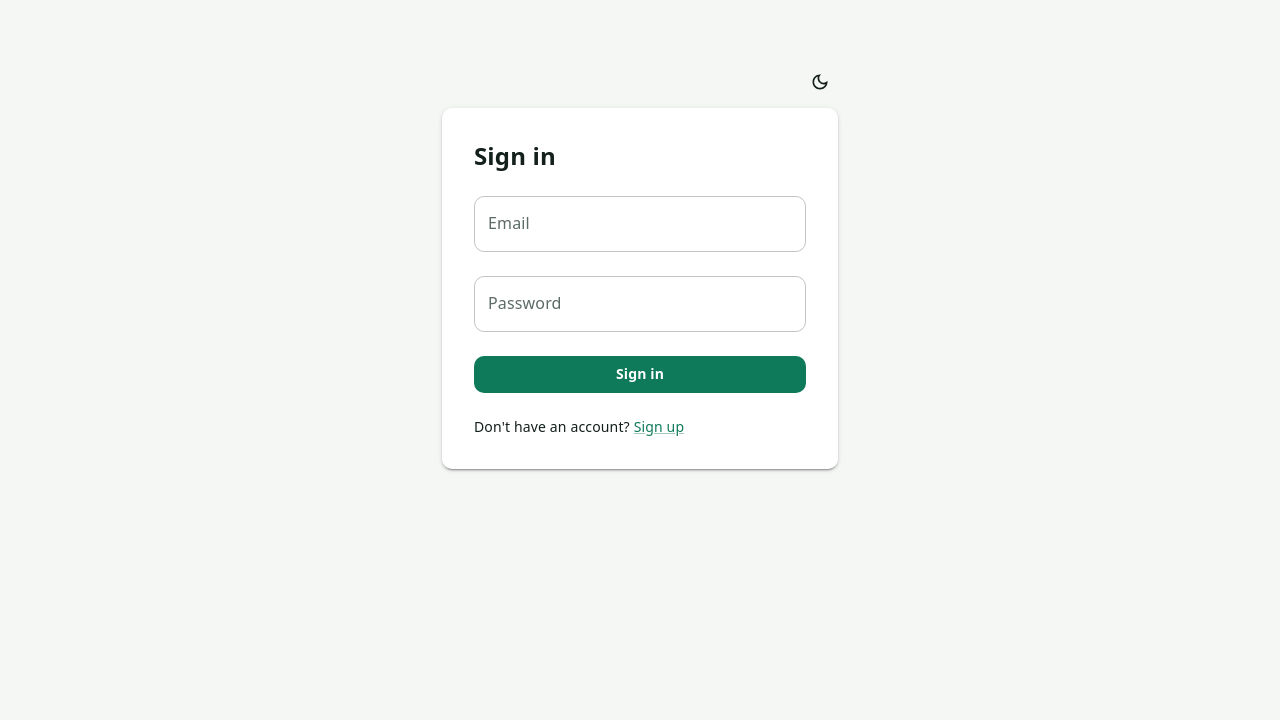
Test: App routing + auth › signs in and lands on the dashboard
Step 1. Type "ada@example.com" into the field labelled "Email" → (640,224), box [474,196,806,252]
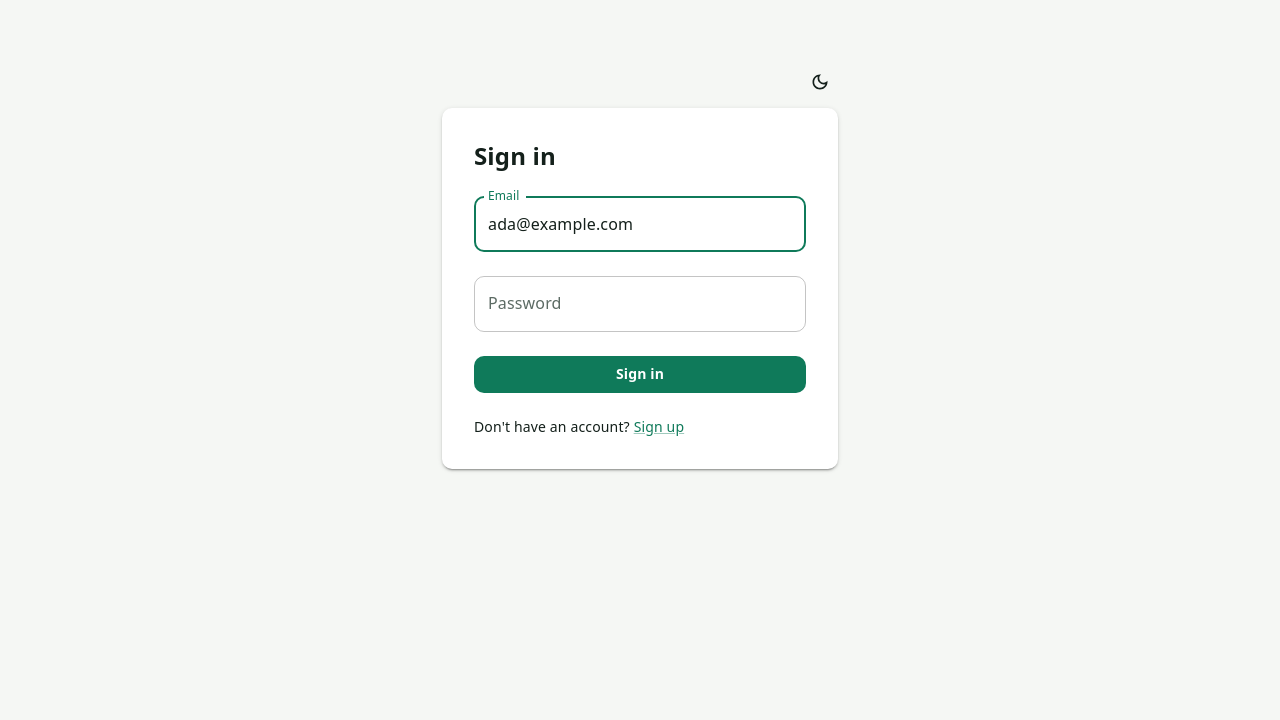
Step 2. Type "Password1!" into the password field labelled "Password" → (640,304), box [474,276,806,332]
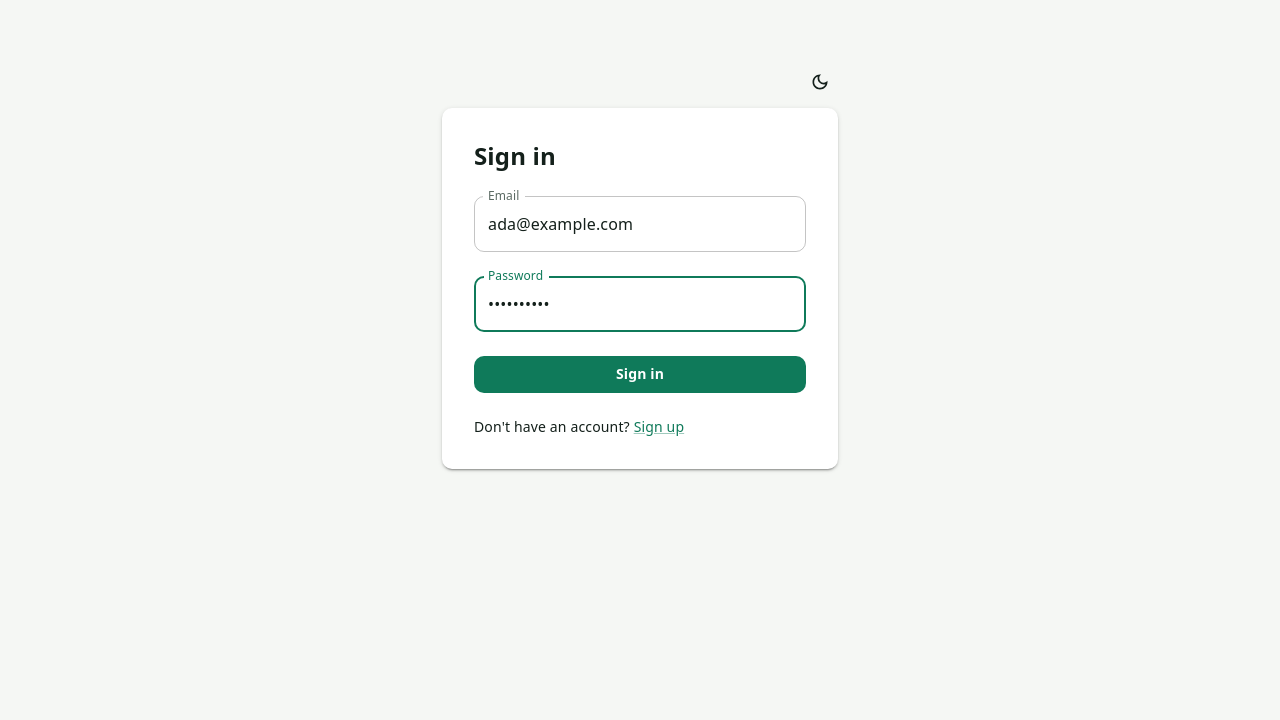
Step 3. Click the button "Sign in" → (640,375), box [474,356,806,393]
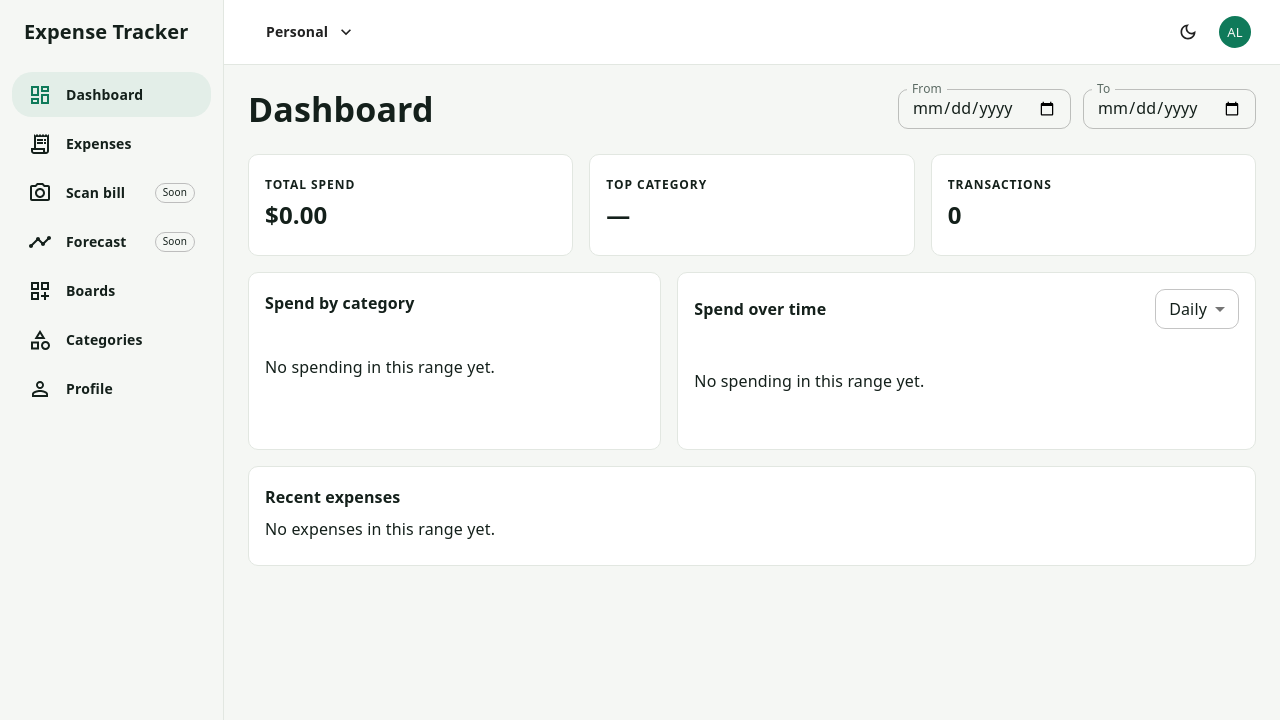
Expected: the button "Personal" is shown, [248,14,370,50]
